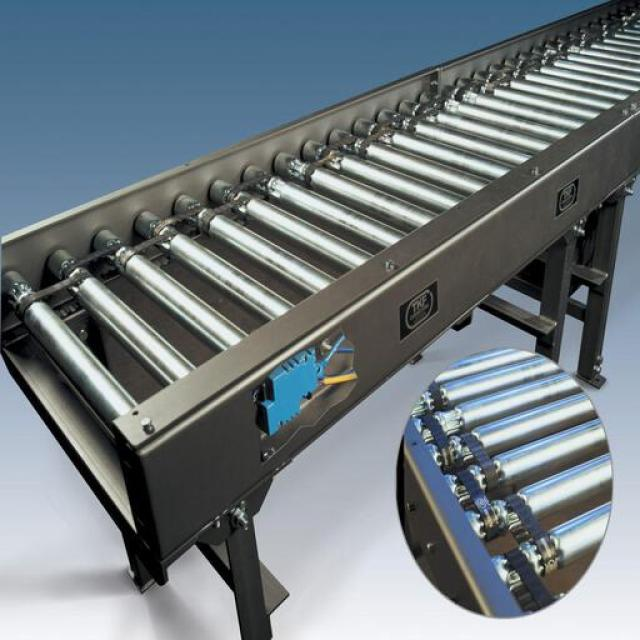conveyor: (0, 0, 639, 639), (392, 344, 616, 621)
